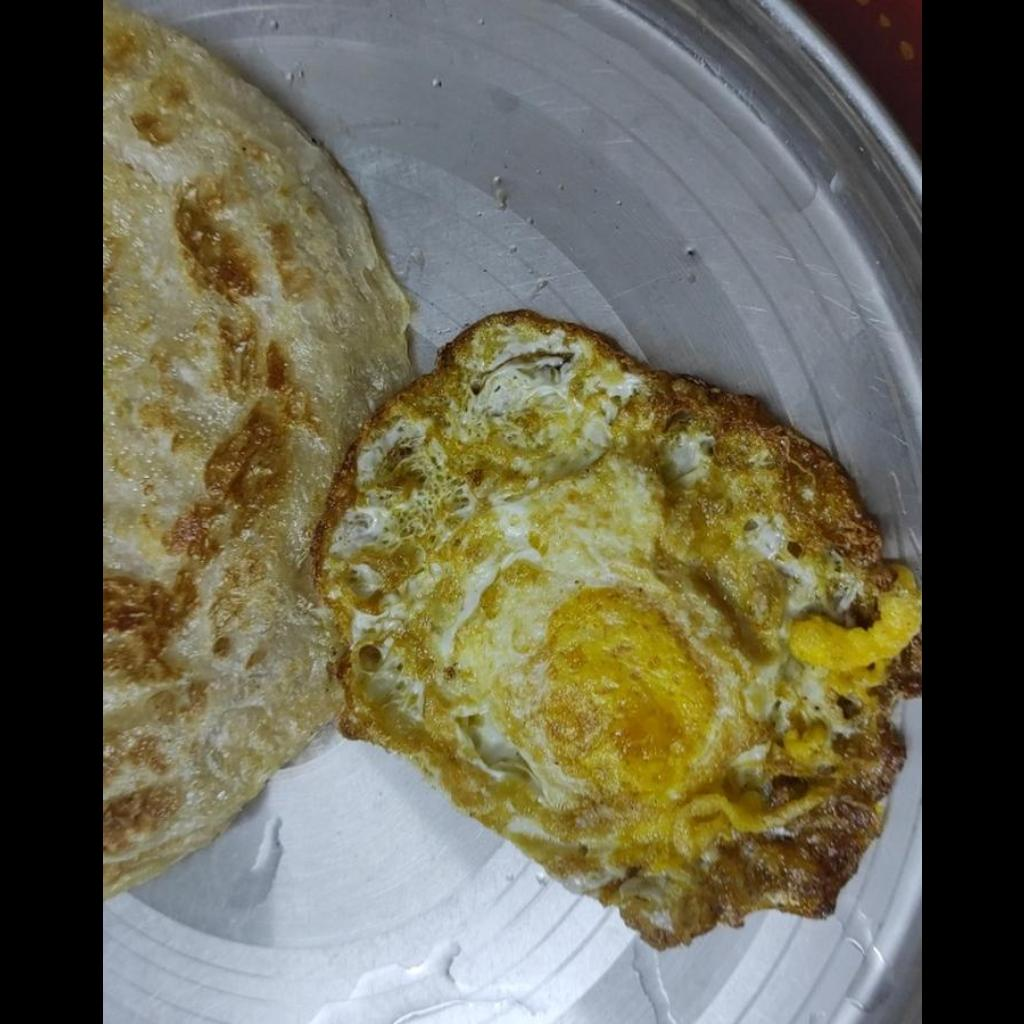egg-poached: (318, 313, 920, 949)
ruti: (102, 0, 416, 894)
